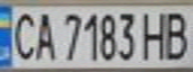1: (78, 9, 100, 62)
3: (115, 9, 142, 61)
7: (57, 9, 84, 62)
8: (96, 9, 121, 62)
A: (30, 8, 57, 62)
B: (160, 8, 190, 61)
C: (6, 8, 39, 62)
H: (139, 8, 172, 61)
